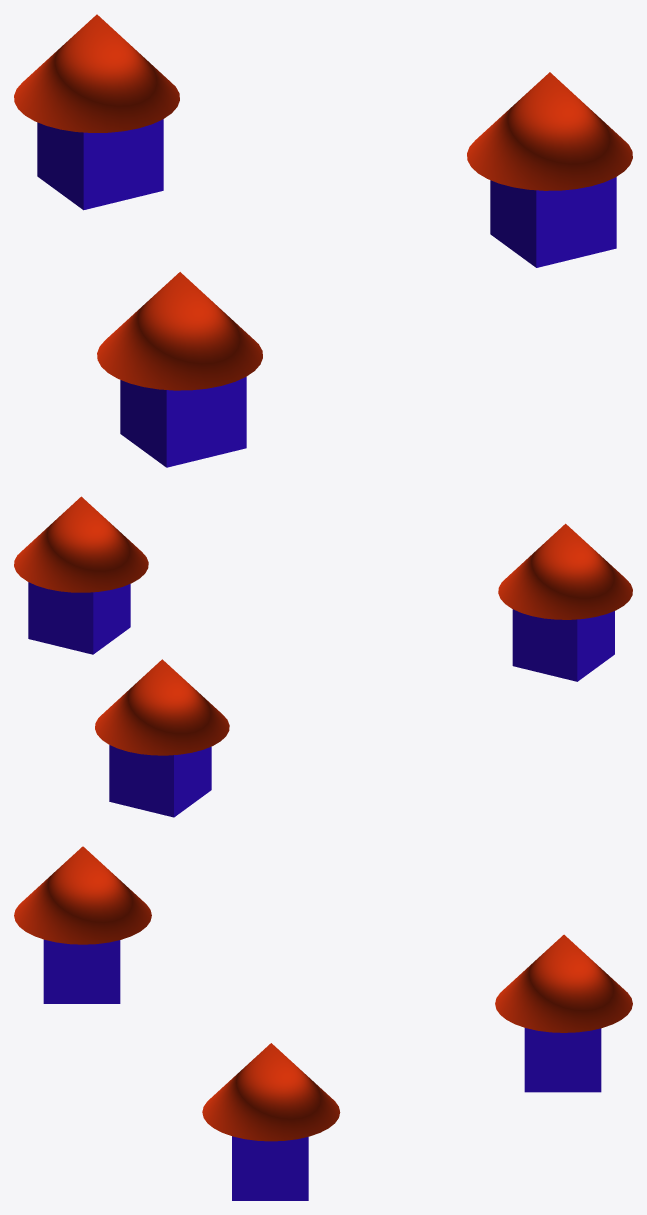
File: Imakart_Map_test.dae
The picture shows the model from 3 angles, top to bottom: view 1: azimuth 30°, elevation 25°; view 2: azimuth 150°, elevation 25°; view 3: azimuth 270°, elevation 25°; orthographic projection. The views are drawn at different scales.
Visible parts, largest first — view 1: Cone_002, Cone_001, Cone; view 2: Cone, Cone_001, Cone_002; view 3: Cone_002, Cone, Cone_001.
Boxes of the visible parts, x1,y1,x2,y2 form: Cone_002: (14, 14, 179, 210); Cone_001: (467, 72, 632, 267); Cone: (97, 272, 262, 467); Cone: (498, 523, 632, 681); Cone_001: (14, 496, 148, 654); Cone_002: (95, 659, 229, 817); Cone_002: (495, 934, 632, 1092); Cone: (14, 846, 151, 1003); Cone_001: (202, 1043, 340, 1200).
Size of what is drawn, in the model's own units: 15.68 by 16.15 by 4.18.
